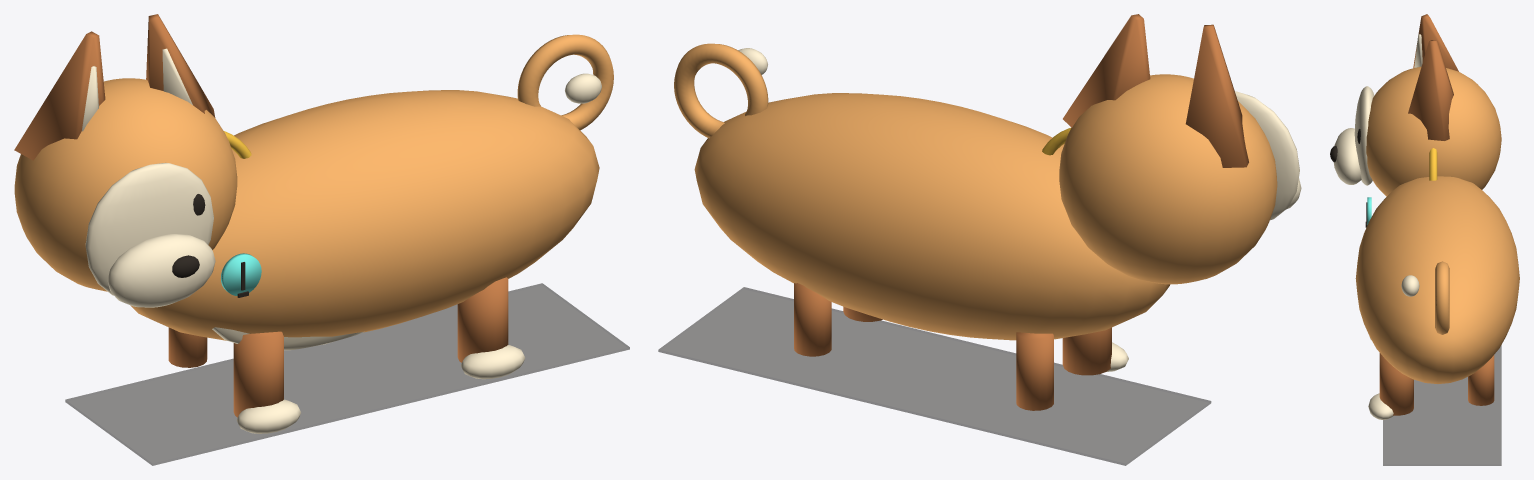
File: corgi-assistant.glb
3 views of the same model, side by side, from view 1: azimuth 30°, elevation 25°; view 2: azimuth 150°, elevation 25°; view 3: azimuth 270°, elevation 25° (orthographic). The views are drawn at different scales.
Visible parts, largest first — view 1: Corgi body rounded low-poly, soft contact shadow card, Corgi head, Cream face mask, Cream muzzle, Left corgi ear, curled corgi tail, front back leg 1, front back leg 2, Right corgi ear, cream paw 1, cream paw 2 (+5 smaller); view 2: Corgi body rounded low-poly, soft contact shadow card, Corgi head, Left corgi ear, curled corgi tail, Right corgi ear, far leg 1, Cream face mask, far leg 2, front back leg 1; view 3: Corgi body rounded low-poly, Corgi head, soft contact shadow card, Right corgi ear, front back leg 2, Cream muzzle, Cream face mask, curled corgi tail, far leg 2, Left corgi ear, cream paw 2, tail highlight (+2 smaller).
Part boxes in pixels (x1,y1,x2,y2): Corgi body rounded low-poly: (130, 90, 599, 340); soft contact shadow card: (65, 283, 629, 465); Corgi head: (14, 78, 237, 291); Cream face mask: (85, 162, 213, 295); Cream muzzle: (107, 234, 215, 307); Left corgi ear: (14, 31, 105, 160); curled corgi tail: (517, 34, 613, 130); front back leg 1: (233, 331, 283, 417); front back leg 2: (457, 277, 508, 362); Right corgi ear: (146, 14, 215, 117); cream paw 1: (236, 399, 301, 433); cream paw 2: (460, 345, 525, 379); Corgi body rounded low-poly: (694, 93, 1170, 340); soft contact shadow card: (658, 287, 1211, 465); Corgi head: (1059, 74, 1277, 284); Left corgi ear: (1185, 24, 1248, 167); curled corgi tail: (674, 43, 768, 138); Right corgi ear: (1063, 14, 1150, 127); far leg 1: (1016, 332, 1053, 410); Cream face mask: (1235, 91, 1299, 220); far leg 2: (794, 283, 831, 356); front back leg 1: (1062, 327, 1111, 375); Corgi body rounded low-poly: (1355, 176, 1519, 383); Corgi head: (1366, 66, 1501, 196); soft contact shadow card: (1383, 345, 1501, 465); Right corgi ear: (1408, 40, 1453, 140); front back leg 2: (1379, 353, 1413, 415); Cream muzzle: (1333, 128, 1361, 184); Cream face mask: (1354, 86, 1374, 185); curled corgi tail: (1435, 261, 1449, 334); far leg 2: (1468, 355, 1494, 405); Left corgi ear: (1413, 14, 1458, 71); cream paw 2: (1368, 393, 1393, 419); tail highlight: (1401, 275, 1419, 296).
Bounding box in the file's own units: 2.04 × 1.37 × 0.833.
